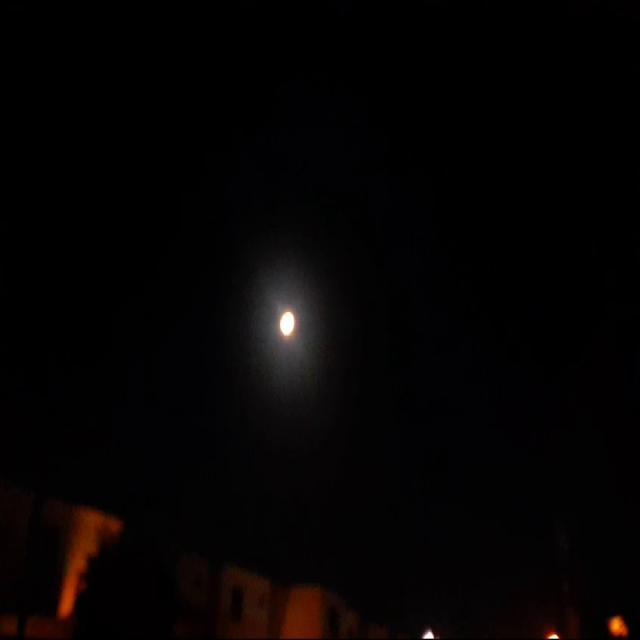moon: (272, 305, 290, 340)
